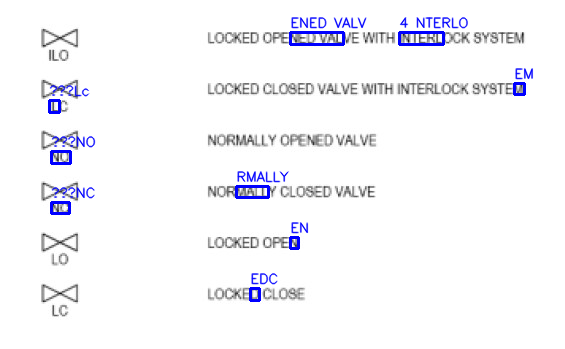Válvula: (38, 75, 81, 103), (40, 176, 81, 204), (39, 25, 81, 50), (38, 281, 80, 305), (38, 129, 82, 151), (41, 230, 80, 253)
